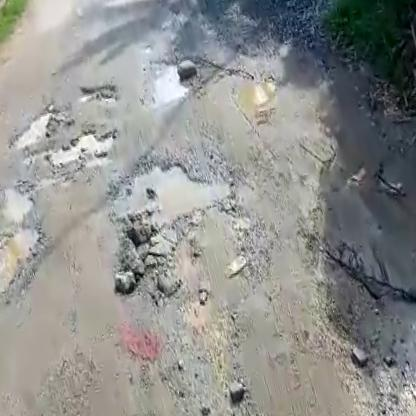pothole: (101, 140, 240, 234), (0, 183, 60, 320), (223, 60, 284, 116), (137, 54, 197, 110), (47, 123, 120, 169), (5, 106, 61, 152), (73, 76, 122, 111)
